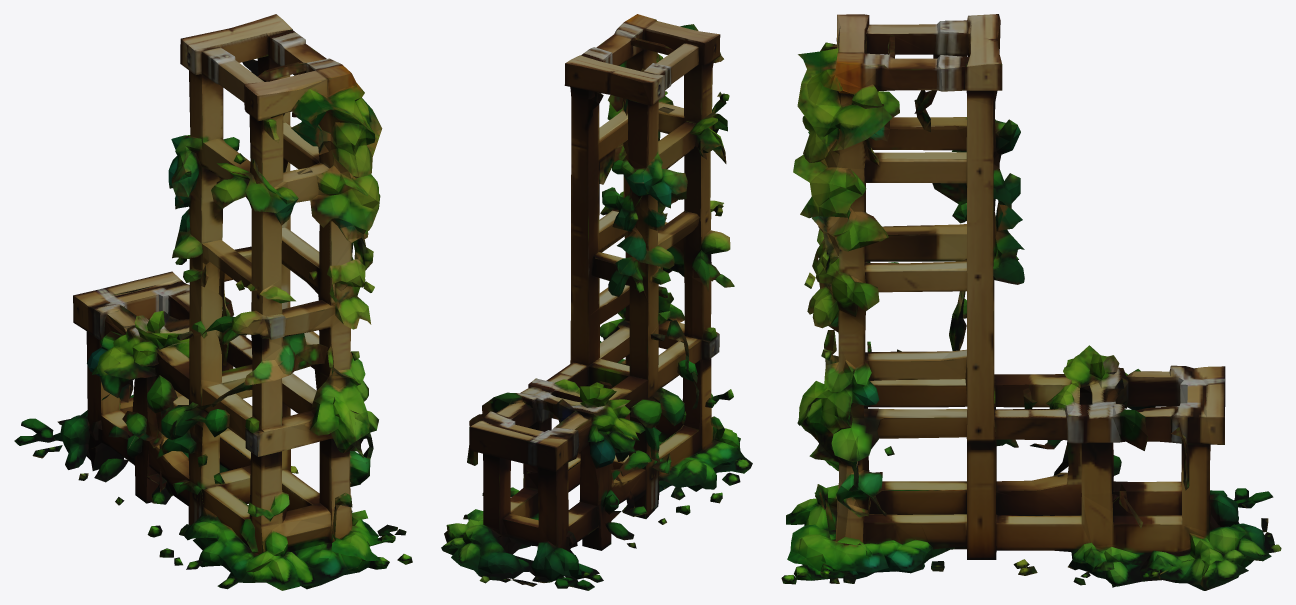
3 views of the same model, side by side, from view 1: azimuth 30°, elevation 25°; view 2: azimuth 150°, elevation 25°; view 3: azimuth 270°, elevation 25° (orthographic). The views are drawn at different scales.
Parts seen in each view (by area): view 1: world; view 2: world; view 3: world.
Part boxes in pixels (x1=…): world: x1=14, y1=14, x2=412, y2=590; world: x1=441, y1=14, x2=752, y2=590; world: x1=781, y1=14, x2=1281, y2=590.
Size of the model in its own units: 0.4159 by 1 by 0.8686.
Materials: 1 (1 with a texture image).
